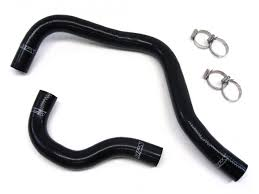radiator_hose: (13, 15, 247, 180), (29, 90, 162, 165)
